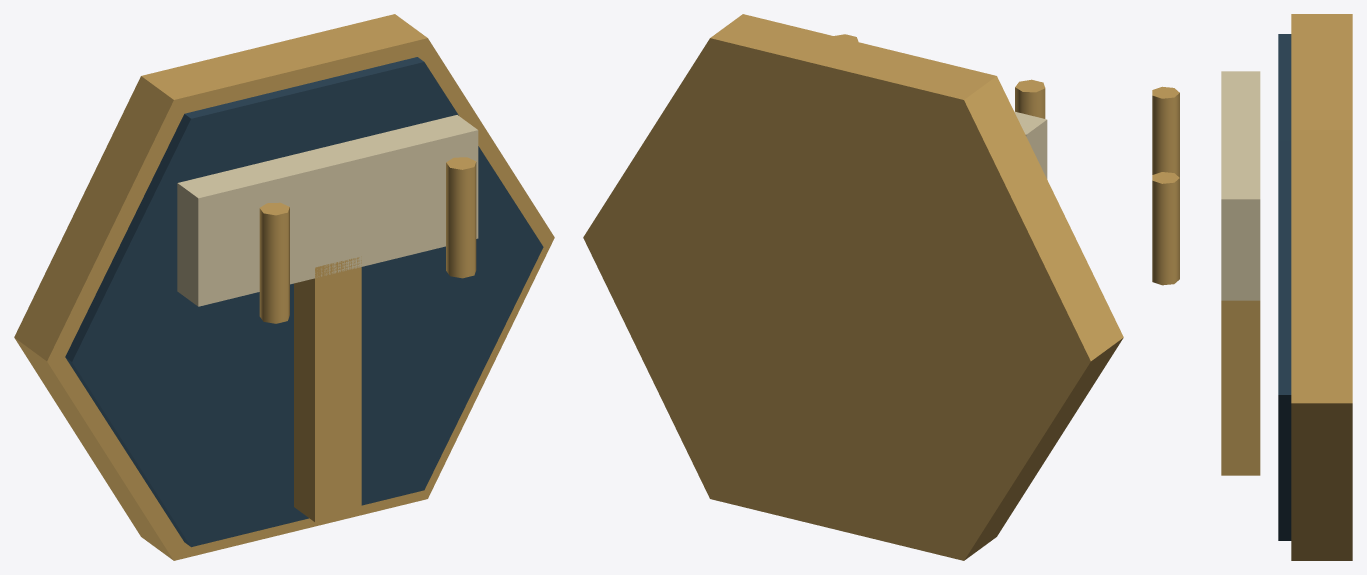
The model's file is blunt.fbx.
3 renders of one model, left to right at view 1: azimuth 30°, elevation 25°; view 2: azimuth 150°, elevation 25°; view 3: azimuth 270°, elevation 25°, orthographic. The views are drawn at different scales.
Parts seen in each view (by area): view 1: blunt; view 2: blunt; view 3: blunt.
Boxes of the visible parts, box(x1,y1,x2,y2) form: blunt: box(14, 14, 554, 560); blunt: box(583, 14, 1123, 560); blunt: box(1152, 14, 1352, 560).
Bounding box in the file's own units: 0.98 × 0.85 × 0.3584.
